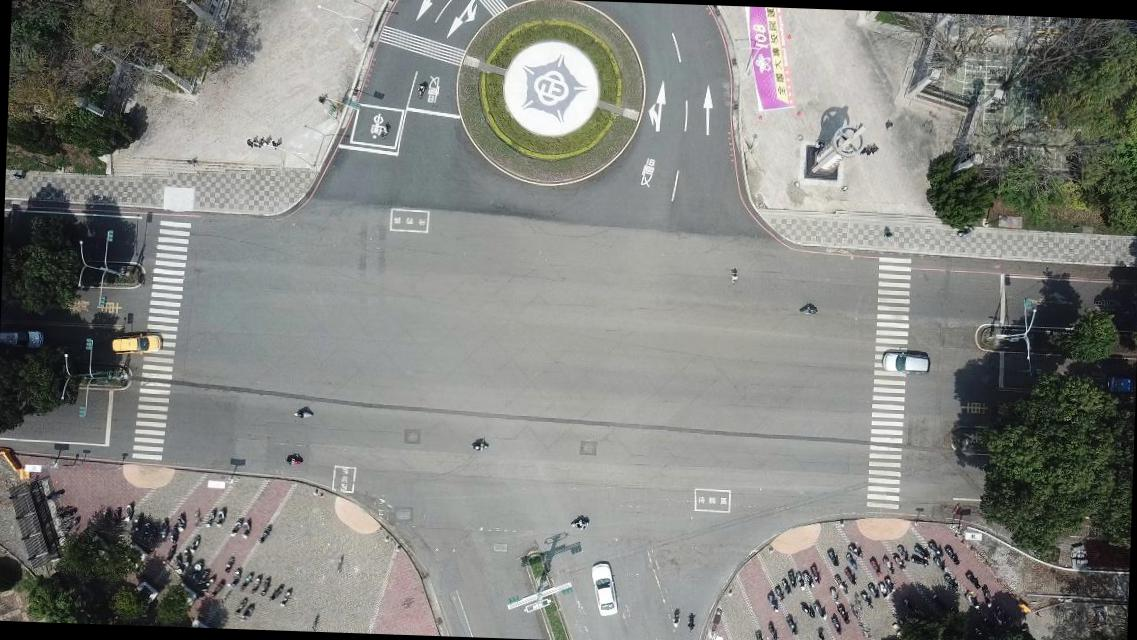vehicle: (588, 561, 621, 618), (108, 331, 164, 356), (879, 349, 930, 376), (0, 326, 44, 353), (1096, 374, 1136, 400)
